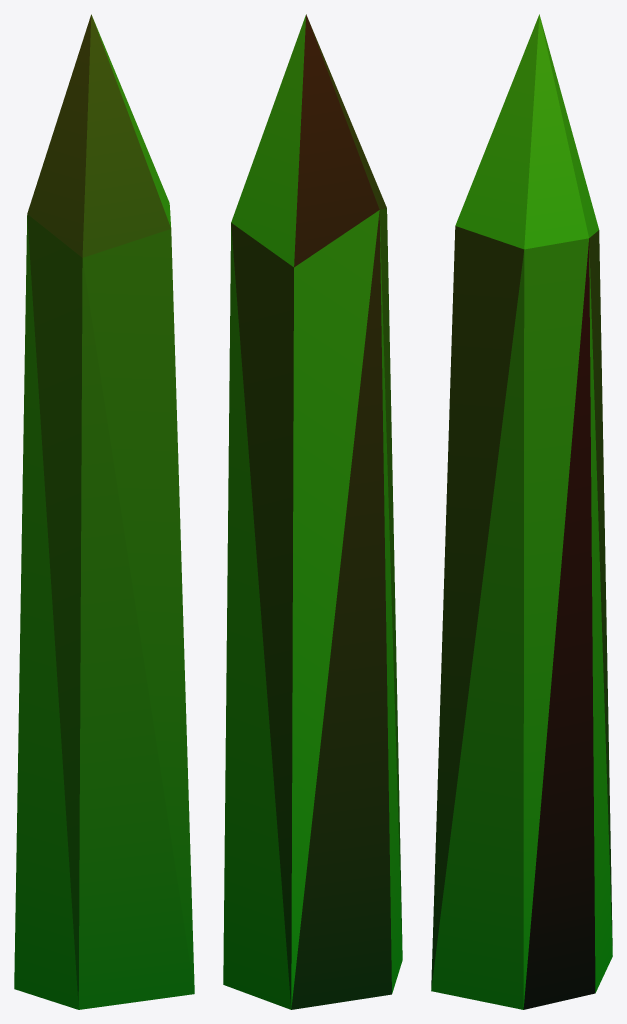
Rendered from Crystal_M_01.fbx.
3 views of the same model, side by side, from view 1: azimuth 30°, elevation 25°; view 2: azimuth 150°, elevation 25°; view 3: azimuth 270°, elevation 25° (orthographic).
Visible parts, largest first — view 1: Crystal_M_01; view 2: Crystal_M_01; view 3: Crystal_M_01.
Boxes of the visible parts, left/top/right/bottom form: Crystal_M_01: left=14, top=14, right=194, bottom=1009; Crystal_M_01: left=223, top=14, right=402, bottom=1009; Crystal_M_01: left=431, top=14, right=612, bottom=1009.
Size of the model in its own units: 0.2556 by 1.38 by 0.2381.
